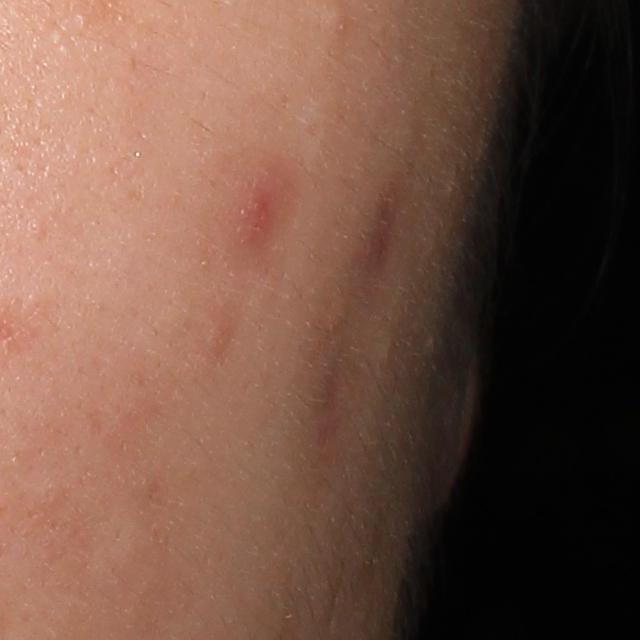comedo: (321, 4, 353, 46)
papule: (219, 176, 272, 243)
